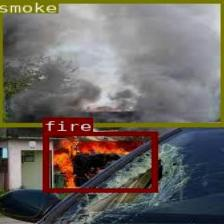fire: (42, 132, 156, 192)
smoke: (0, 0, 224, 126)
